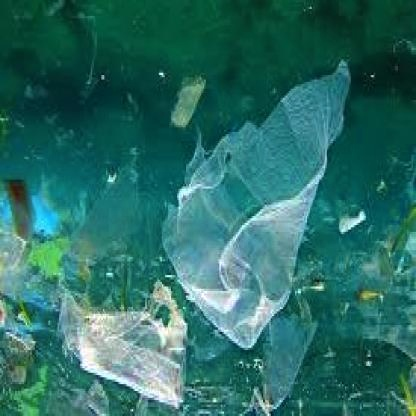pbag: (154, 52, 357, 350), (36, 275, 201, 407)
